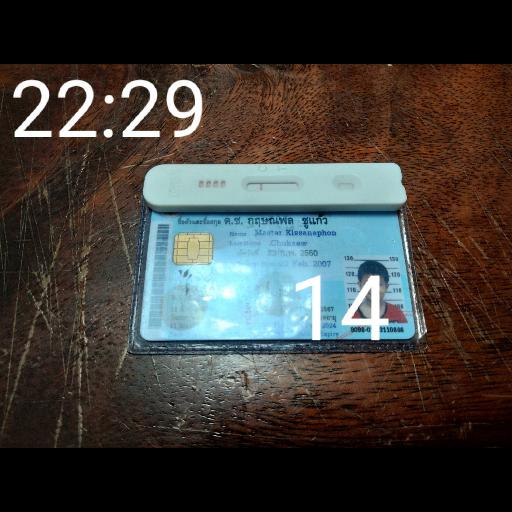Neg: (143, 164, 405, 204)
